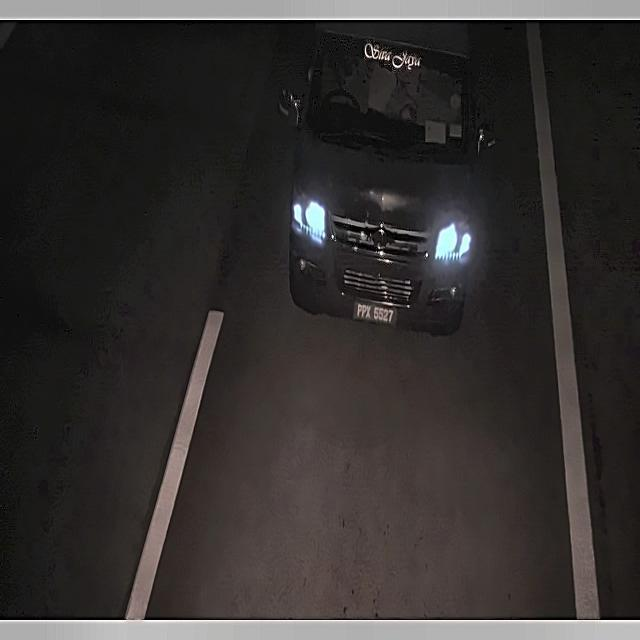car: (355, 293, 395, 333)
